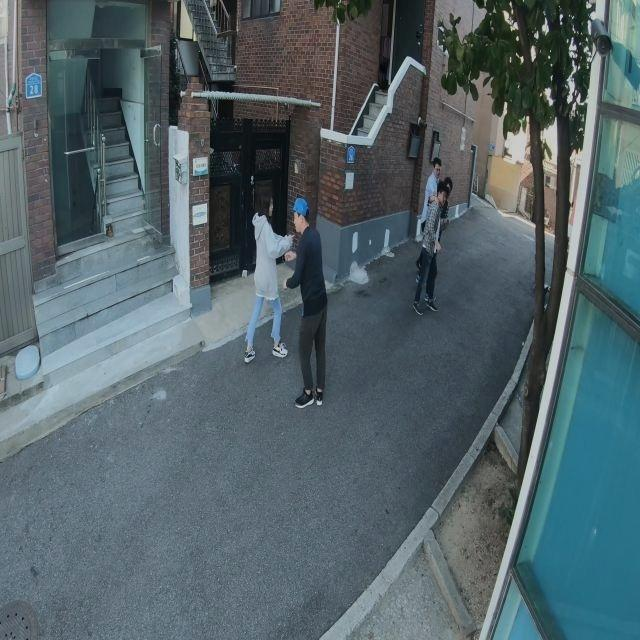non-fight: (284, 196, 331, 410), (240, 187, 296, 363), (412, 180, 450, 316), (415, 154, 444, 243)
